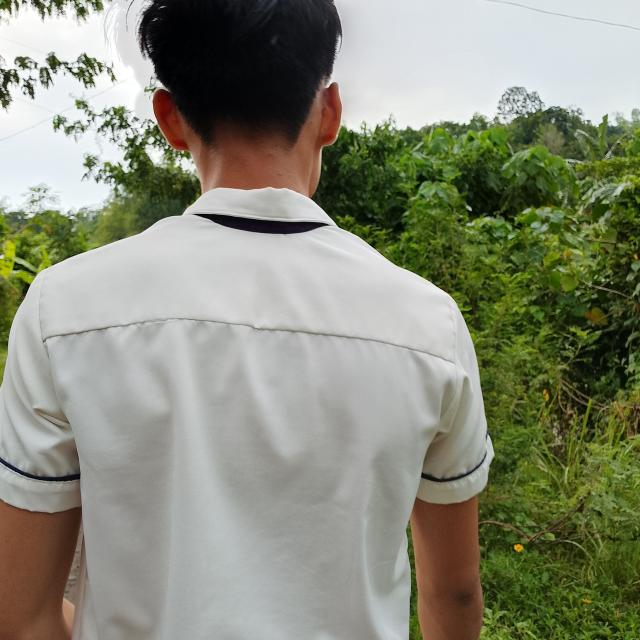education_male_uniform: (2, 175, 530, 537)
